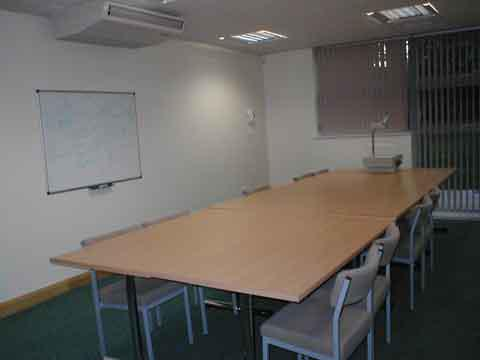Ventana: (413, 49, 479, 212), (312, 46, 407, 132)
